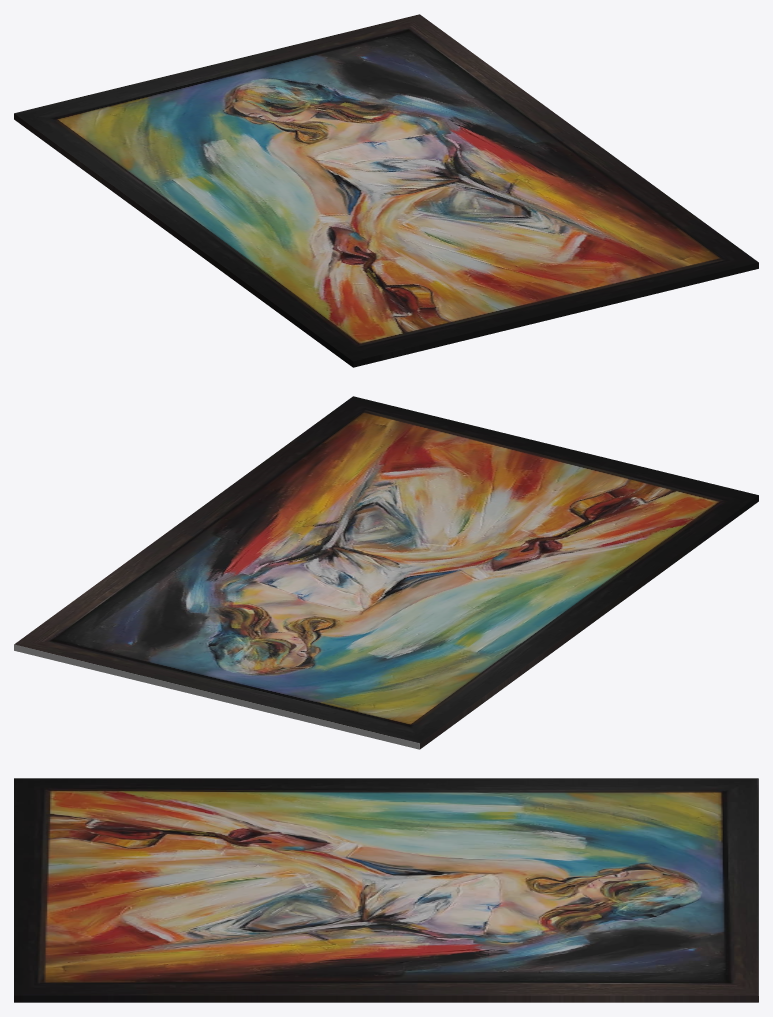
The model's file is tablo2.glb.
The picture shows the model from 3 angles, top to bottom: view 1: azimuth 30°, elevation 25°; view 2: azimuth 150°, elevation 25°; view 3: azimuth 270°, elevation 25°; orthographic projection. The views are drawn at different scales.
Size of the model in its own units: 1.52 by 0.0221 by 2.2.
1 material, 1 textured.
